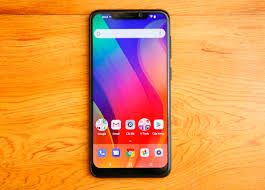vsmart: (86, 5, 174, 179)
